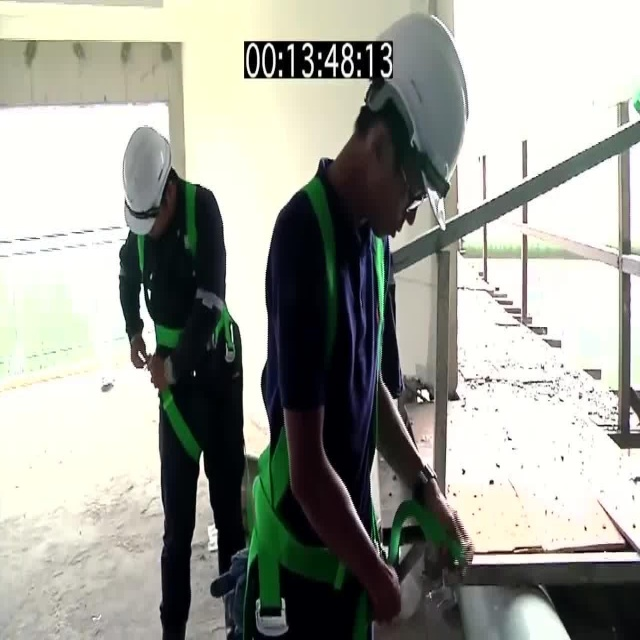Arnes_seguridad: (249, 169, 390, 611), (136, 180, 235, 465)
